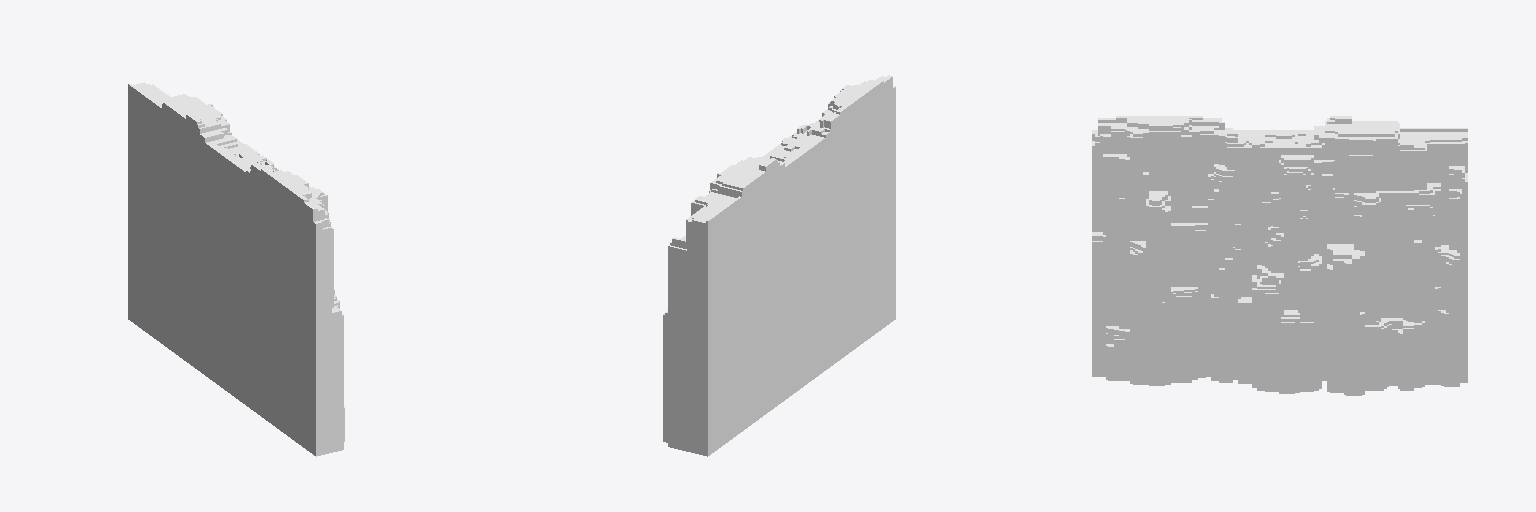
Rendered from forest1.2-194.obj.
The picture shows the model from 3 angles: view 1: azimuth 30°, elevation 25°; view 2: azimuth 150°, elevation 25°; view 3: azimuth 270°, elevation 25°; orthographic projection.
Parts seen in each view (by area): view 1: object 1; view 2: object 1; view 3: object 1.
Boxes of the visible parts, box(x1,y1,x2,y2) form: object 1: box(128, 82, 344, 456); object 1: box(663, 75, 895, 456); object 1: box(1092, 116, 1467, 395).
Size of the model in its own units: 2.9 by 10.1 by 13.9.